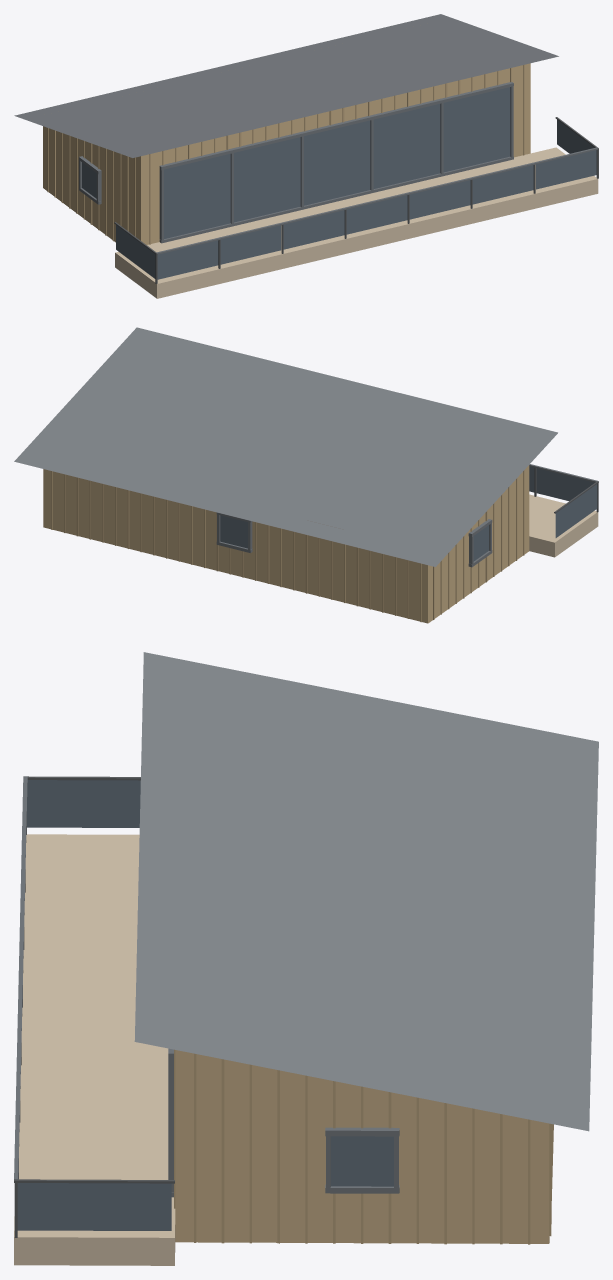
3 views of the same model, one above another, from view 1: azimuth 30°, elevation 25°; view 2: azimuth 150°, elevation 25°; view 3: azimuth 270°, elevation 25° (orthographic). The views are drawn at different scales.
Visible parts, largest first — view 1: slate, door_wood, larch, slate_dk, window_glass_014, window_glass_013, window_glass_011, window_glass_012, window_glass_010, door_wood_p, window_glass_006, window_glass_003 (+9 smaller); view 2: slate, door_wood, door_wood_p, larch, slate_dk, window_glass_001, window_glass_008, window_glass_017, window_glass_015; view 3: slate, door_wood, larch, window_glass_009, door_wood_p, window_glass_008, slate_dk, window_glass_016, pipe.
Boxes of the visible parts, left/top/right/bottom form: slate: left=14, top=14, right=558, bottom=157; door_wood: left=43, top=63, right=530, bottom=244; larch: left=115, top=147, right=598, bottom=298; slate_dk: left=79, top=82, right=597, bottom=254; window_glass_014: left=443, top=87, right=510, bottom=172; window_glass_013: left=373, top=104, right=440, bottom=188; window_glass_011: left=234, top=137, right=300, bottom=222; window_glass_012: left=304, top=120, right=370, bottom=205; window_glass_010: left=164, top=153, right=230, bottom=238; door_wood_p: left=47, top=65, right=524, bottom=244; window_glass_006: left=472, top=165, right=533, bottom=204; window_glass_003: left=283, top=210, right=344, bottom=249; slate: left=14, top=327, right=557, bottom=566; door_wood: left=43, top=465, right=529, bottom=623; door_wood_p: left=51, top=470, right=524, bottom=622; larch: left=529, top=494, right=598, bottom=557; slate_dk: left=216, top=464, right=597, bottom=567; window_glass_001: left=536, top=468, right=594, bottom=500; window_glass_008: left=555, top=484, right=597, bottom=537; window_glass_017: left=220, top=515, right=247, bottom=548; window_glass_015: left=473, top=525, right=488, bottom=561; slate: left=134, top=652, right=598, bottom=1131; door_wood: left=175, top=1050, right=549, bottom=1243; larch: left=14, top=834, right=175, bottom=1265; window_glass_009: left=17, top=1183, right=171, bottom=1230; door_wood_p: left=174, top=1049, right=553, bottom=1244; window_glass_008: left=27, top=780, right=140, bottom=827; slate_dk: left=14, top=776, right=399, bottom=1197; window_glass_016: left=331, top=1136, right=393, bottom=1186; pipe: left=14, top=776, right=174, bottom=1237.
Size of the model in its own units: 15.49 by 3.88 by 9.46.
